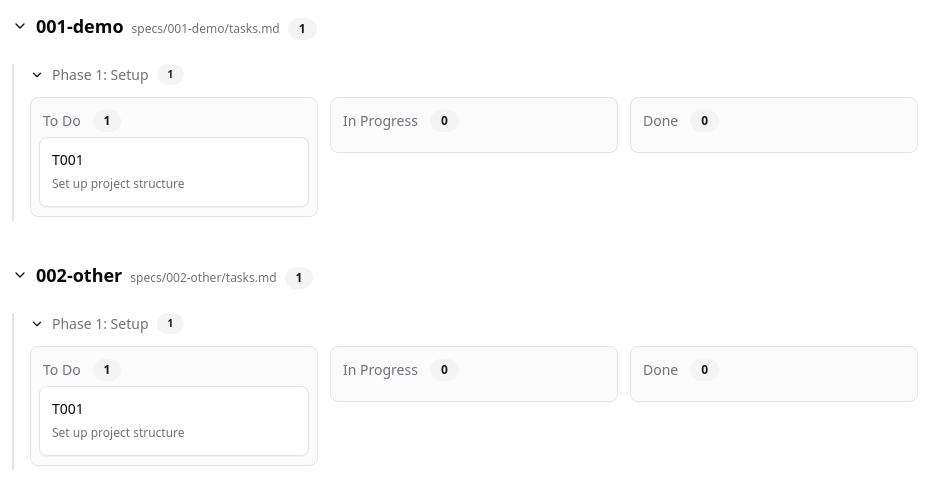
KanbanBoardPanel › collapses and expands a swimlane when its header is clicked, without affecting other swimlanes
The width and height of the screenshot is (935, 487).
Click the button "001-demo specs/001-demo/tasks.md 1".
click(164, 27)  # box [12,14,317,40]
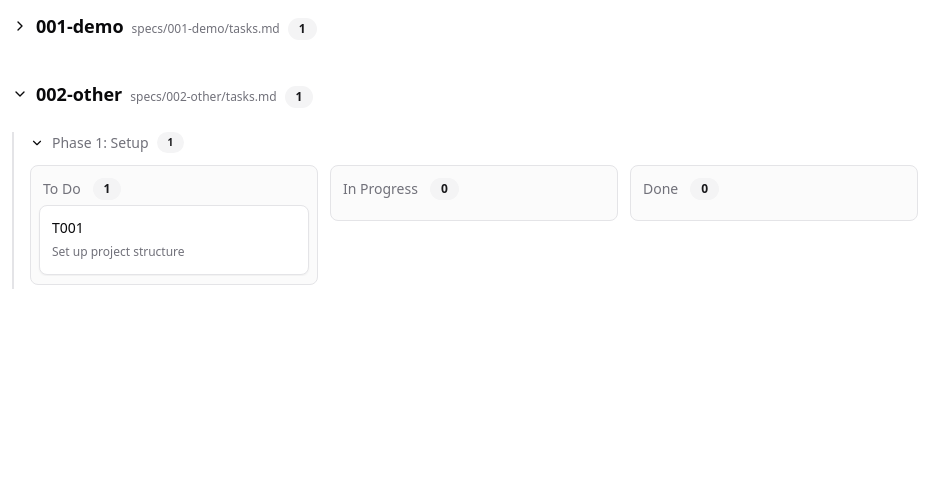
Now the button "001-demo specs/001-demo/tasks.md 1" is collapsed
Click the button "001-demo specs/001-demo/tasks.md 1".
click(164, 27)  # box [12,14,317,40]
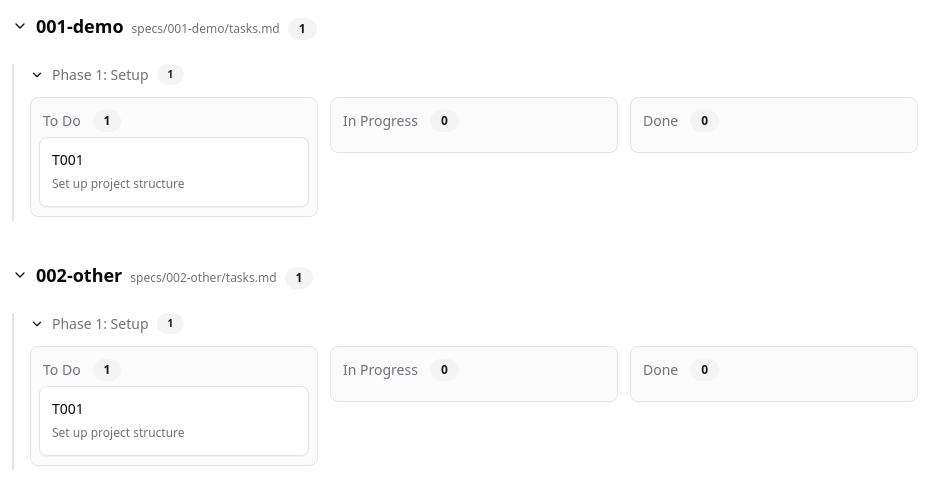
Now the button "001-demo specs/001-demo/tasks.md 1" is expanded, box [12,14,317,40]
